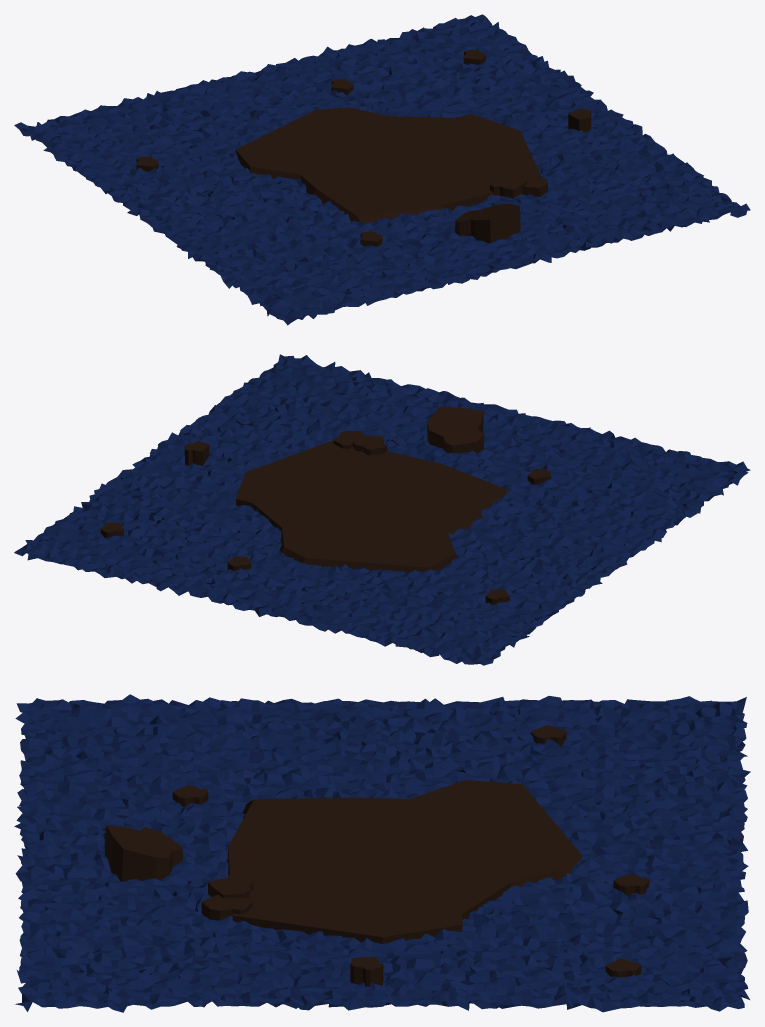
The picture shows the model from 3 angles, top to bottom: view 1: azimuth 30°, elevation 25°; view 2: azimuth 150°, elevation 25°; view 3: azimuth 270°, elevation 25°; orthographic projection. The views are drawn at different scales.
Parts seen in each view (by area): view 1: 海面, 地面, 地面.007, 地面.008; view 2: 海面, 地面, 地面.007, 地面.008, 地面.003; view 3: 海面, 地面, 地面.007, 地面.006, 地面.008, 地面.003, 地面.001, 地面.005, 地面.002.
Part boxes in pixels (bbox=[...]): 海面: bbox=[14, 14, 750, 325]; 地面: bbox=[235, 107, 541, 222]; 地面.007: bbox=[455, 203, 520, 243]; 地面.008: bbox=[490, 175, 526, 198]; 海面: bbox=[14, 354, 750, 665]; 地面: bbox=[236, 440, 508, 572]; 地面.007: bbox=[427, 406, 484, 453]; 地面.008: bbox=[353, 435, 387, 455]; 地面.003: bbox=[184, 441, 209, 465]; 海面: bbox=[14, 694, 750, 1012]; 地面: bbox=[227, 780, 582, 943]; 地面.007: bbox=[104, 825, 182, 881]; 地面.006: bbox=[201, 894, 252, 920]; 地面.008: bbox=[208, 874, 253, 898]; 地面.003: bbox=[350, 956, 383, 986]; 地面.001: bbox=[613, 873, 649, 896]; 地面.005: bbox=[172, 785, 208, 807]; 地面.002: bbox=[605, 958, 641, 977].
Size of the model in its own units: 144392 by 10363 by 144261.
